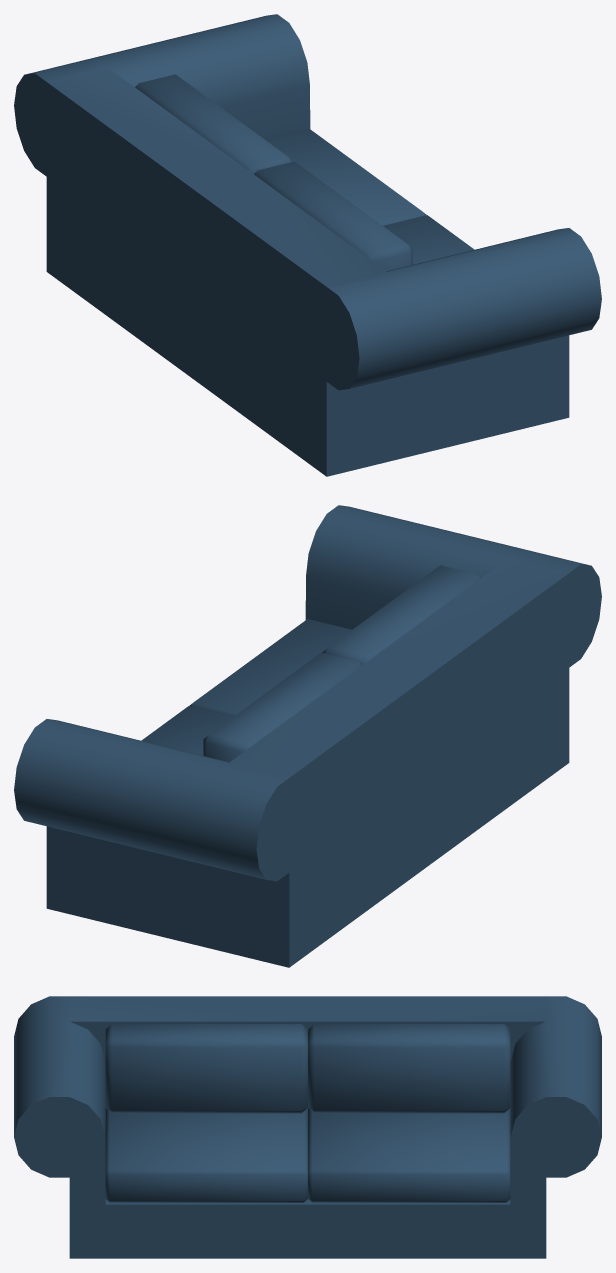
File: sofa.fbx
The picture shows the model from 3 angles, top to bottom: view 1: azimuth 30°, elevation 25°; view 2: azimuth 150°, elevation 25°; view 3: azimuth 270°, elevation 25°; orthographic projection. The views are drawn at different scales.
Visible parts, largest first — view 1: sofa; view 2: sofa; view 3: sofa.
Boxes of the visible parts, bbox=[...] form: sofa: bbox=[14, 14, 601, 476]; sofa: bbox=[14, 505, 601, 967]; sofa: bbox=[14, 996, 601, 1258].
Bounding box in the file's own units: 200 × 150 × 494.
Materials: 1 (1 with a texture image).
